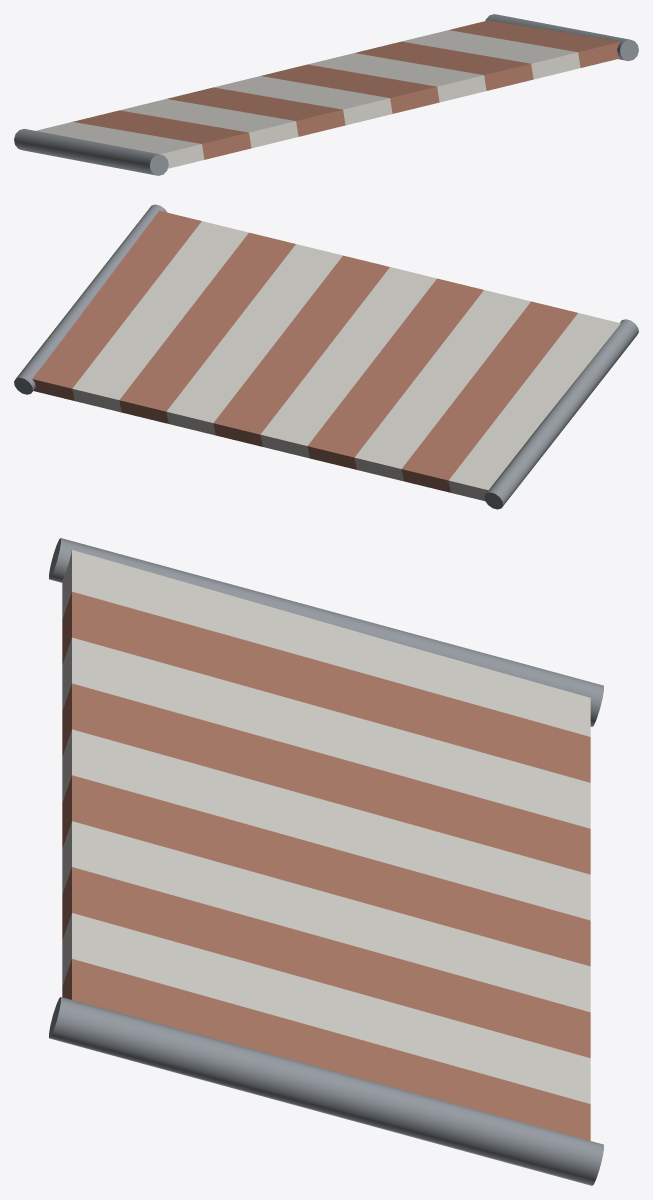
File: awning.glb
The picture shows the model from 3 angles, top to bottom: view 1: azimuth 30°, elevation 25°; view 2: azimuth 150°, elevation 25°; view 3: azimuth 270°, elevation 25°; orthographic projection. The views are drawn at different scales.
Visible parts, largest first — view 1: world; view 2: world; view 3: world.
Part boxes in pixels (bbox=[...]): world: bbox=[14, 14, 638, 175]; world: bbox=[14, 204, 638, 509]; world: bbox=[49, 538, 603, 1185].
Bounding box in the file's own units: 2.08 × 0.3746 × 1.02.
